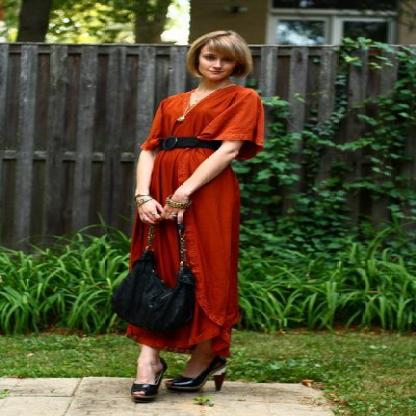bag: (112, 244, 197, 338)
dress: (125, 85, 263, 357)
shoe: (130, 354, 240, 404)
